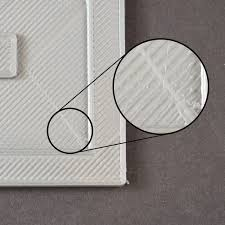3dptoplayergaps: (21, 4, 83, 79), (130, 57, 193, 118), (3, 158, 121, 183), (3, 112, 47, 148), (3, 82, 61, 108), (96, 2, 117, 59)
